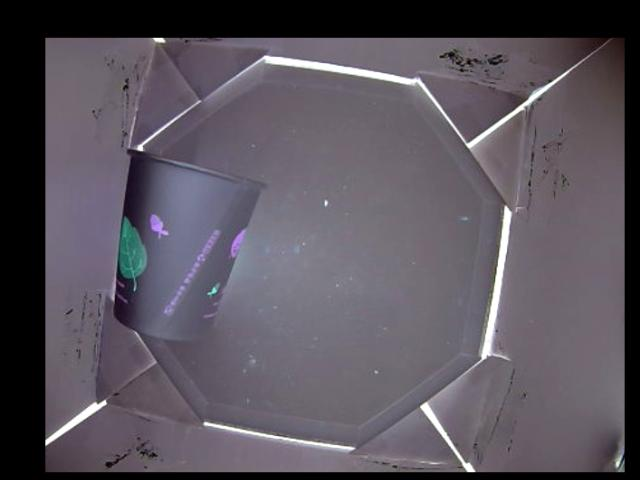Cup: (110, 147, 263, 336)
